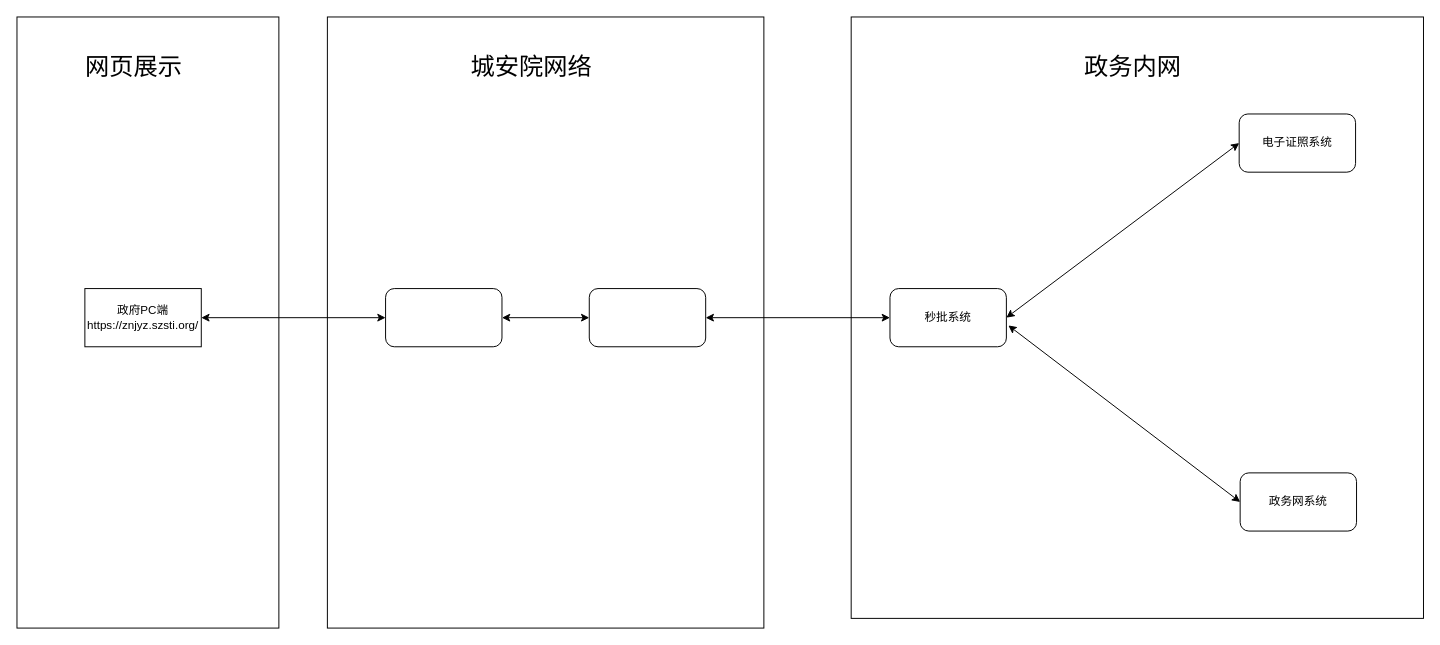
Image size: 1440x645. Some labels were removed from this diagram. Each missing label, with the centre of its shape:
"18.18 DataBus" goes at (443,317).
"30.15 DataBus" goes at (647,317).
